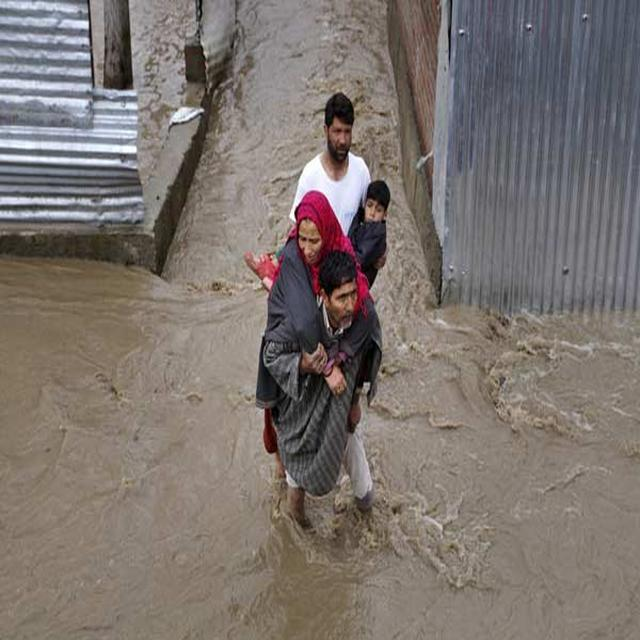Person-RiskLevel2: (250, 194, 388, 527), (245, 92, 404, 297)
